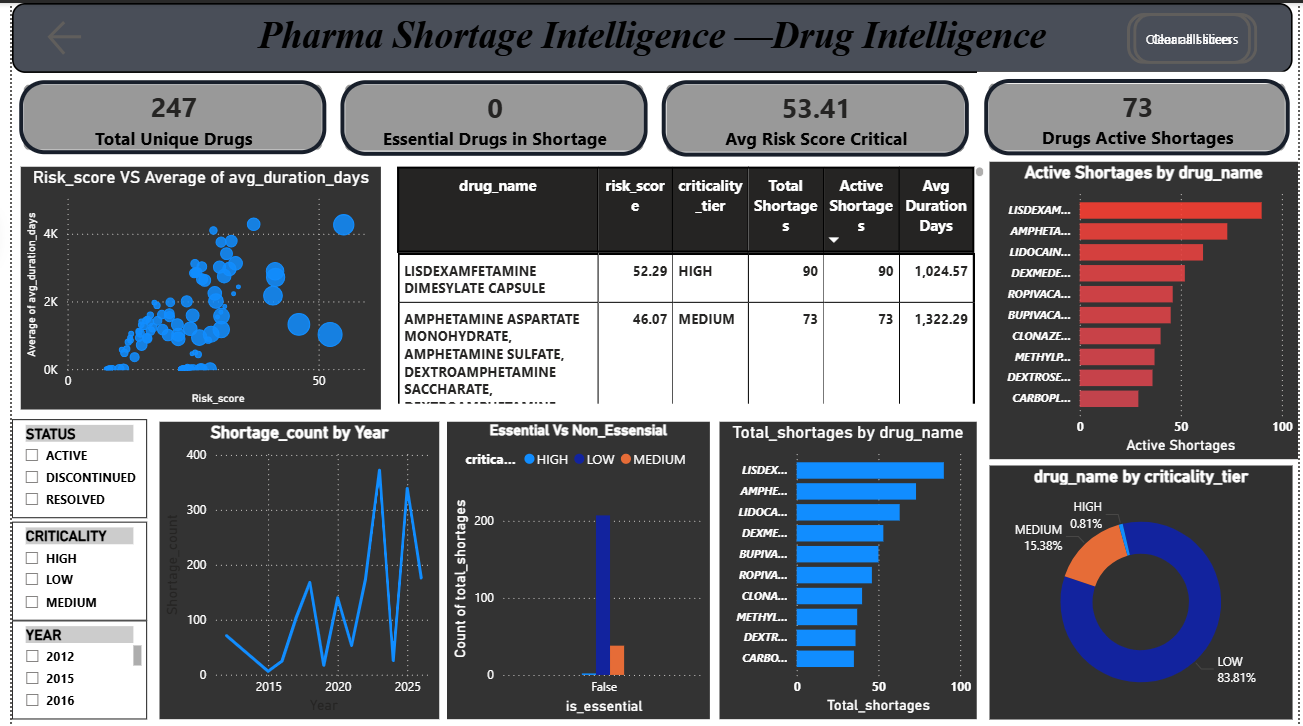

This screenshot's page, from the dashboard's own definition file:
{"tool":"powerbi","page":{"name":"Drug Intelligence","canvas":[1280,720],"ordinal":1},"visuals":[{"type":"textbox","box":[0,0,1274.8,70],"z":0},{"type":"cardVisual","fields":{"Data":["measure dax.Total Unique Drugs"]},"box":[0,70,320,88.3],"z":4000},{"type":"cardVisual","fields":{"Data":["measure dax.Essential Drugs in Shortage"]},"box":[320,70,320,89],"z":5000},{"type":"cardVisual","fields":{"Data":["measure dax.Avg Risk Score Critical"]},"box":[639,70,320,90],"z":6000},{"type":"cardVisual","fields":{"Data":["measure dax.Drugs Active Shortages"]},"box":[960,69,318,90],"z":7000},{"type":"clusteredBarChart","fields":{"Category":["analytics vw_drug_risk.drug_name"],"Y":["Sum(analytics vw_drug_risk.total_shortages)"]},"box":[704.3,417.1,255.7,295.7],"z":8000},{"type":"scatterChart","title":"Risk_score VS Average of avg_duration_days","fields":{"Y":["Avg(analytics vw_drug_risk.avg_duration_days)"],"X":["Avg(analytics vw_drug_risk.risk_score)"],"Category":["analytics vw_drug_risk.drug_name"],"Size":["Sum(analytics vw_drug_risk.total_shortages)"]},"box":[8.6,162.9,358.6,241.4],"z":9000},{"type":"donutChart","title":"drug_name by criticality_tier","fields":{"Category":["analytics vw_drug_risk.criticality_tier"],"Y":["CountNonNull(analytics vw_drug_risk.drug_name)"]},"box":[972.9,460,301.4,252.9],"z":10000},{"type":"clusteredColumnChart","title":"Essential Vs Non_Essensial","fields":{"Category":["analytics vw_drug_risk.is_essential"],"Series":["analytics vw_drug_risk.criticality_tier"],"Y":["CountNonNull(analytics vw_drug_risk.total_shortages)"]},"box":[432.9,417.1,261.4,295.7],"z":11000},{"type":"tableEx","fields":{"Values":["analytics vw_drug_risk.drug_name","Avg(analytics vw_drug_risk.risk_score)","analytics vw_drug_risk.criticality_tier","measure dax.Total Shortages","measure dax.Active Shortages","measure dax.Avg Duration Days"]},"box":[377.1,158.6,595.7,245.7],"z":12000},{"type":"clusteredBarChart","fields":{"Category":["analytics vw_drug_risk.drug_name"],"Y":["measure dax.Active Shortages"]},"box":[972.9,158.6,307.1,295.7],"z":13000},{"type":"lineChart","fields":{"Category":["analytics vw_monthly_trends.month.Variation.Date Hierarchy.Year","analytics vw_monthly_trends.month.Variation.Date Hierarchy.Quarter","analytics vw_monthly_trends.month.Variation.Date Hierarchy.Month","analytics vw_monthly_trends.month.Variation.Date Hierarchy.Day"],"Y":["Sum(analytics vw_monthly_trends.shortage_count)"]},"box":[147.1,417.1,278.6,295.7],"z":14000},{"type":"actionButton","box":[1115.6,9.6,123.5,50.8],"z":15000},{"type":"actionButton","box":[31.6,11,43.9,46.7],"z":16001},{"type":"slicer","fields":{"Values":["analytics vw_shortage_main.criticality_tier"]},"box":[0,515.7,134.3,98.6],"z":16002},{"type":"slicer","fields":{"Values":["analytics vw_shortage_main.status"]},"box":[0,414.3,134.3,98.6],"z":16003},{"type":"slicer","fields":{"Values":["analytics vw_monthly_trends.year"]},"box":[0,614.3,134.3,98.6],"z":16004},{"type":"actionButton","box":[1110.1,9.6,123.5,50.8],"z":16005}]}

Visuals, with their boxes in screenshot pixels (x1, y1, x2, y2), scaled from the page's 1280x720 canvas onto the 1303x726 screenshot:
textbox: bbox=(0, 0, 1298, 71)
cardVisual - measure dax.Total Unique Drugs: bbox=(0, 71, 326, 160)
cardVisual - measure dax.Essential Drugs in Shortage: bbox=(326, 71, 652, 160)
cardVisual - measure dax.Avg Risk Score Critical: bbox=(650, 71, 976, 161)
cardVisual - measure dax.Drugs Active Shortages: bbox=(977, 70, 1301, 160)
clusteredBarChart - analytics vw_drug_risk.drug_name x Sum(analytics vw_drug_risk.total_shortages): bbox=(717, 421, 977, 719)
"Risk_score VS Average of avg_duration_days" scatterChart: bbox=(9, 164, 374, 408)
"drug_name by criticality_tier" donutChart: bbox=(990, 464, 1297, 719)
"Essential Vs Non_Essensial" clusteredColumnChart: bbox=(441, 421, 707, 719)
tableEx - analytics vw_drug_risk.drug_name x Avg(analytics vw_drug_risk.risk_score): bbox=(384, 160, 990, 408)
clusteredBarChart - analytics vw_drug_risk.drug_name x measure dax.Active Shortages: bbox=(990, 160, 1302, 458)
lineChart - analytics vw_monthly_trends.month.Variation.Date Hierarchy.Year x analytics vw_monthly_trends.month.Variation.Date Hierarchy.Quarter: bbox=(150, 421, 433, 719)
actionButton: bbox=(1136, 10, 1261, 61)
actionButton: bbox=(32, 11, 77, 58)
slicer - analytics vw_shortage_main.criticality_tier: bbox=(0, 520, 137, 619)
slicer - analytics vw_shortage_main.status: bbox=(0, 418, 137, 517)
slicer - analytics vw_monthly_trends.year: bbox=(0, 619, 137, 719)
actionButton: bbox=(1130, 10, 1256, 61)
